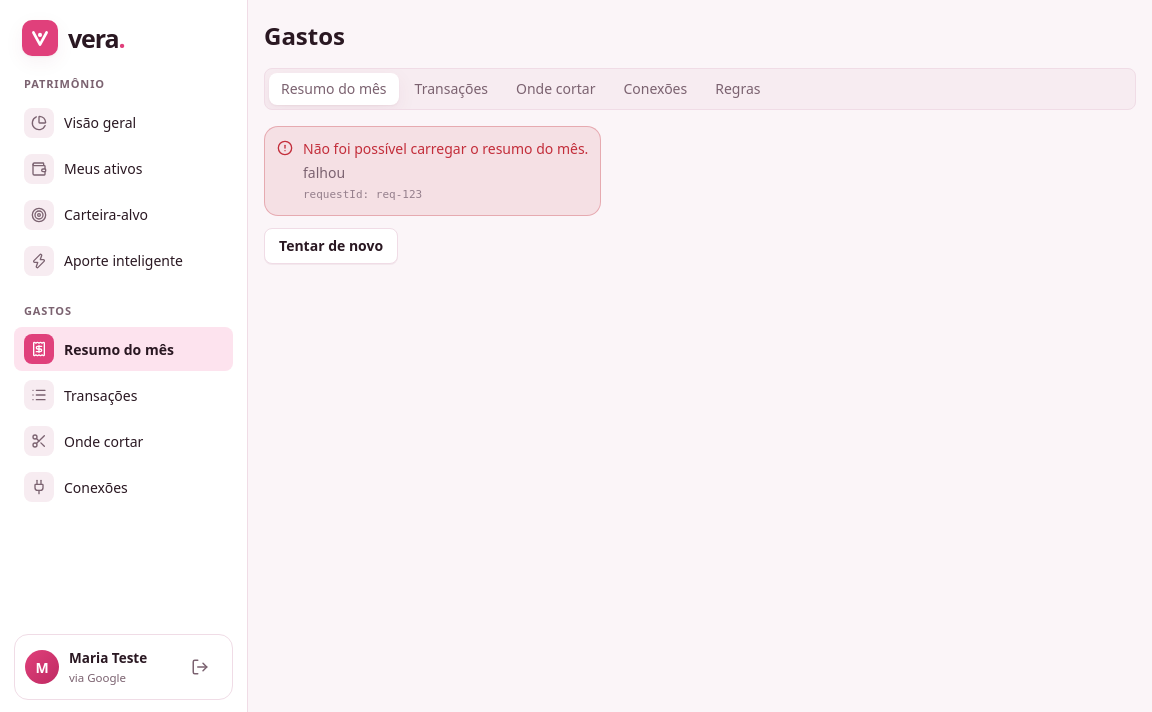
it: resumo do mês: estados › erro mostra o alerta e tenta de novo
Expected: the text "Não foi possível carregar o resumo do mês." is shown, [303,139,588,159]
Click the button "Tentar de novo".
click(331, 246)  # box [264,228,398,264]
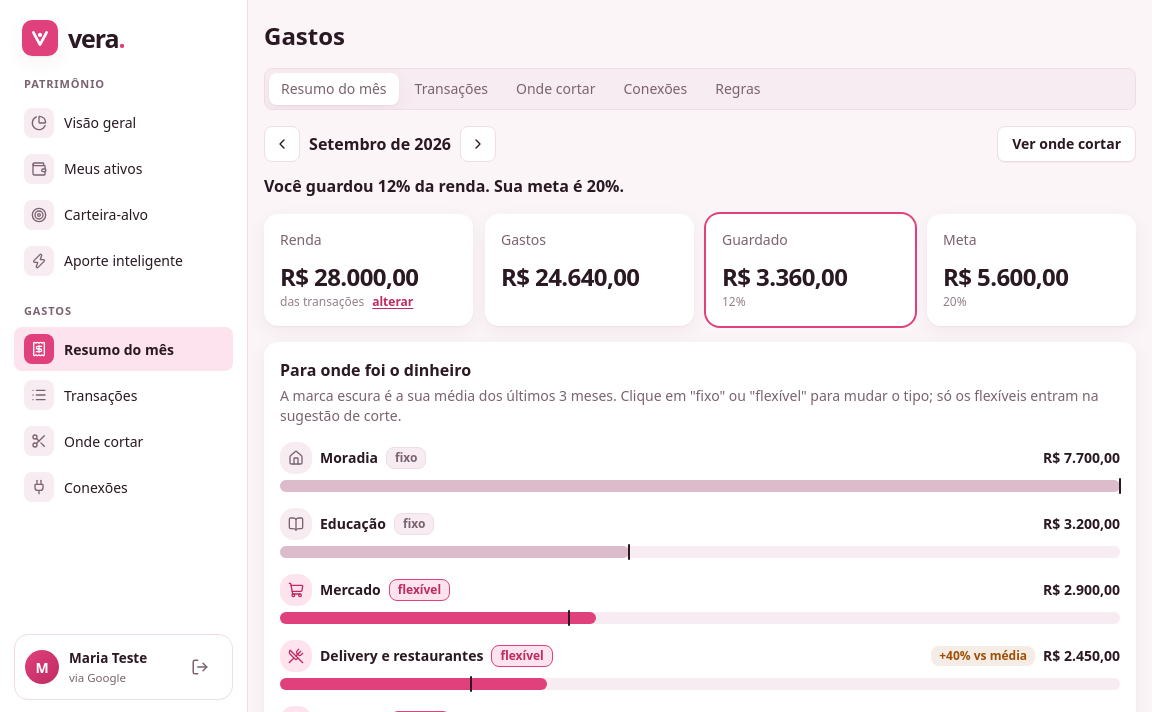
Result: the text "Setembro de 2026" is shown at [308,132,452,156]
